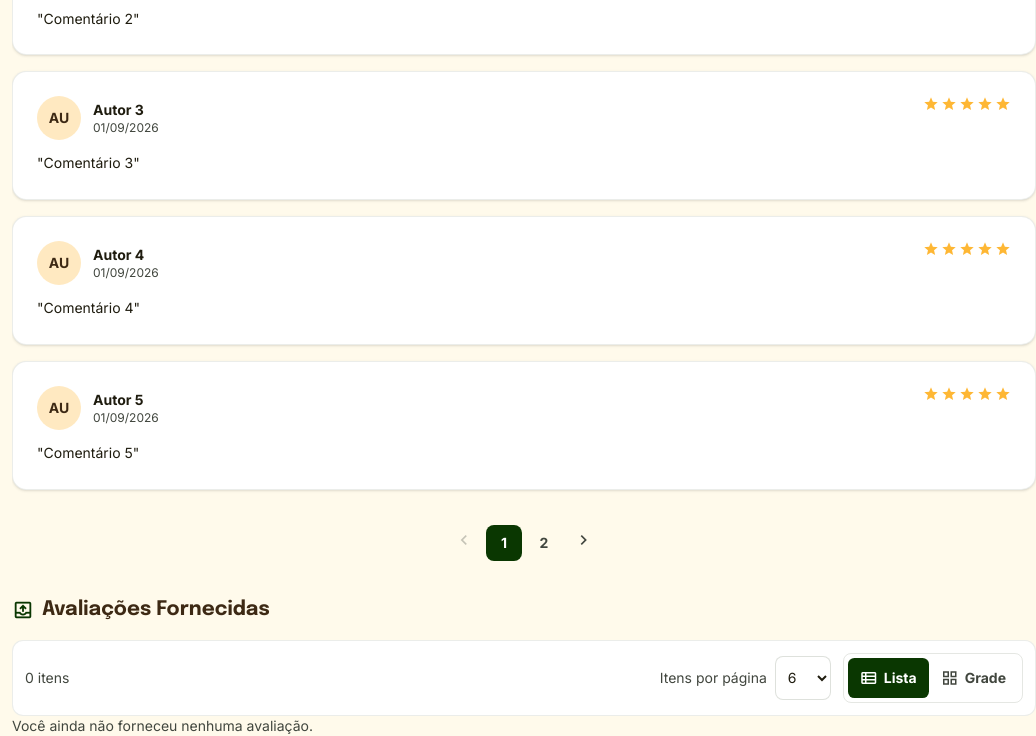
Scenario: paginates received and given reviews independently
This screenshot has width=1036, height=736.
(page scrolled)
Expected: the text "Autor 6" is not shown
Click the button named "Próxima página".
click(584, 542)  # box [566, 522, 602, 564]
(page scrolled)
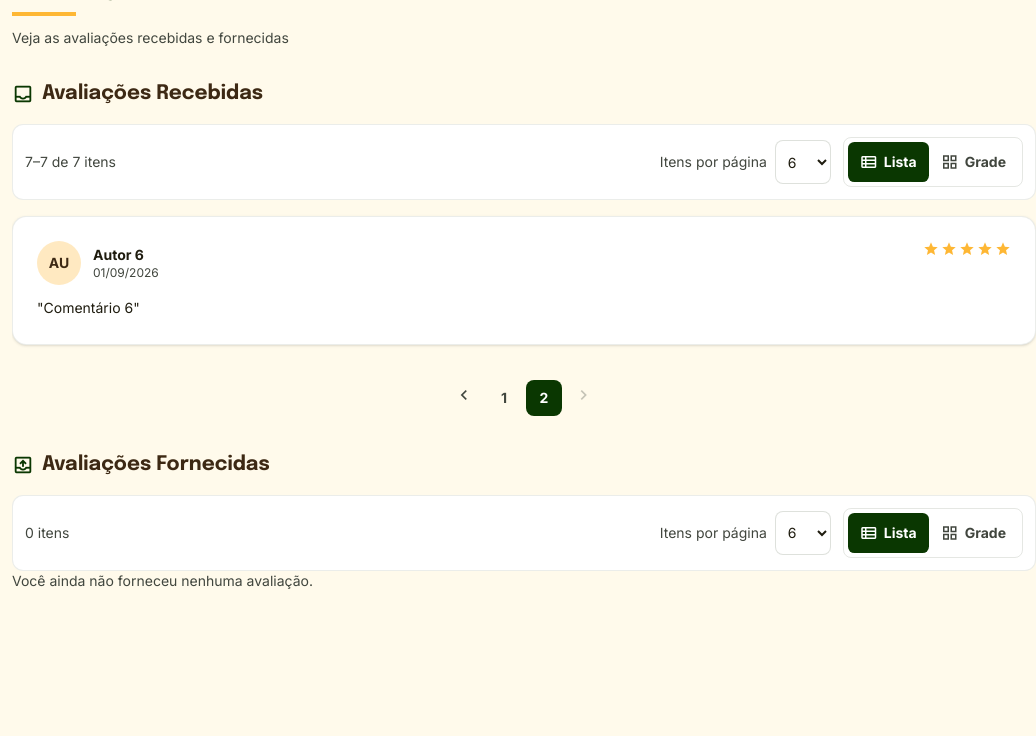
Result: the text "Autor 6" is shown at [93, 246, 144, 263]
